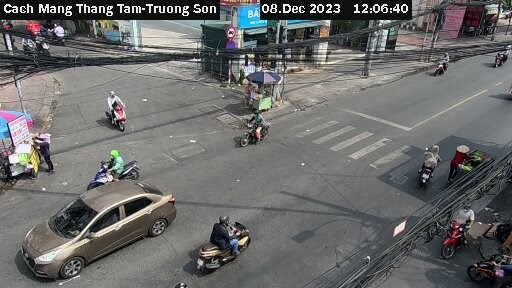car: (21, 179, 174, 280)
motorbike: (184, 219, 257, 270), (432, 206, 478, 249), (96, 87, 142, 129), (235, 110, 284, 146), (87, 149, 142, 179), (409, 140, 445, 182), (430, 50, 452, 80), (491, 42, 512, 73)
